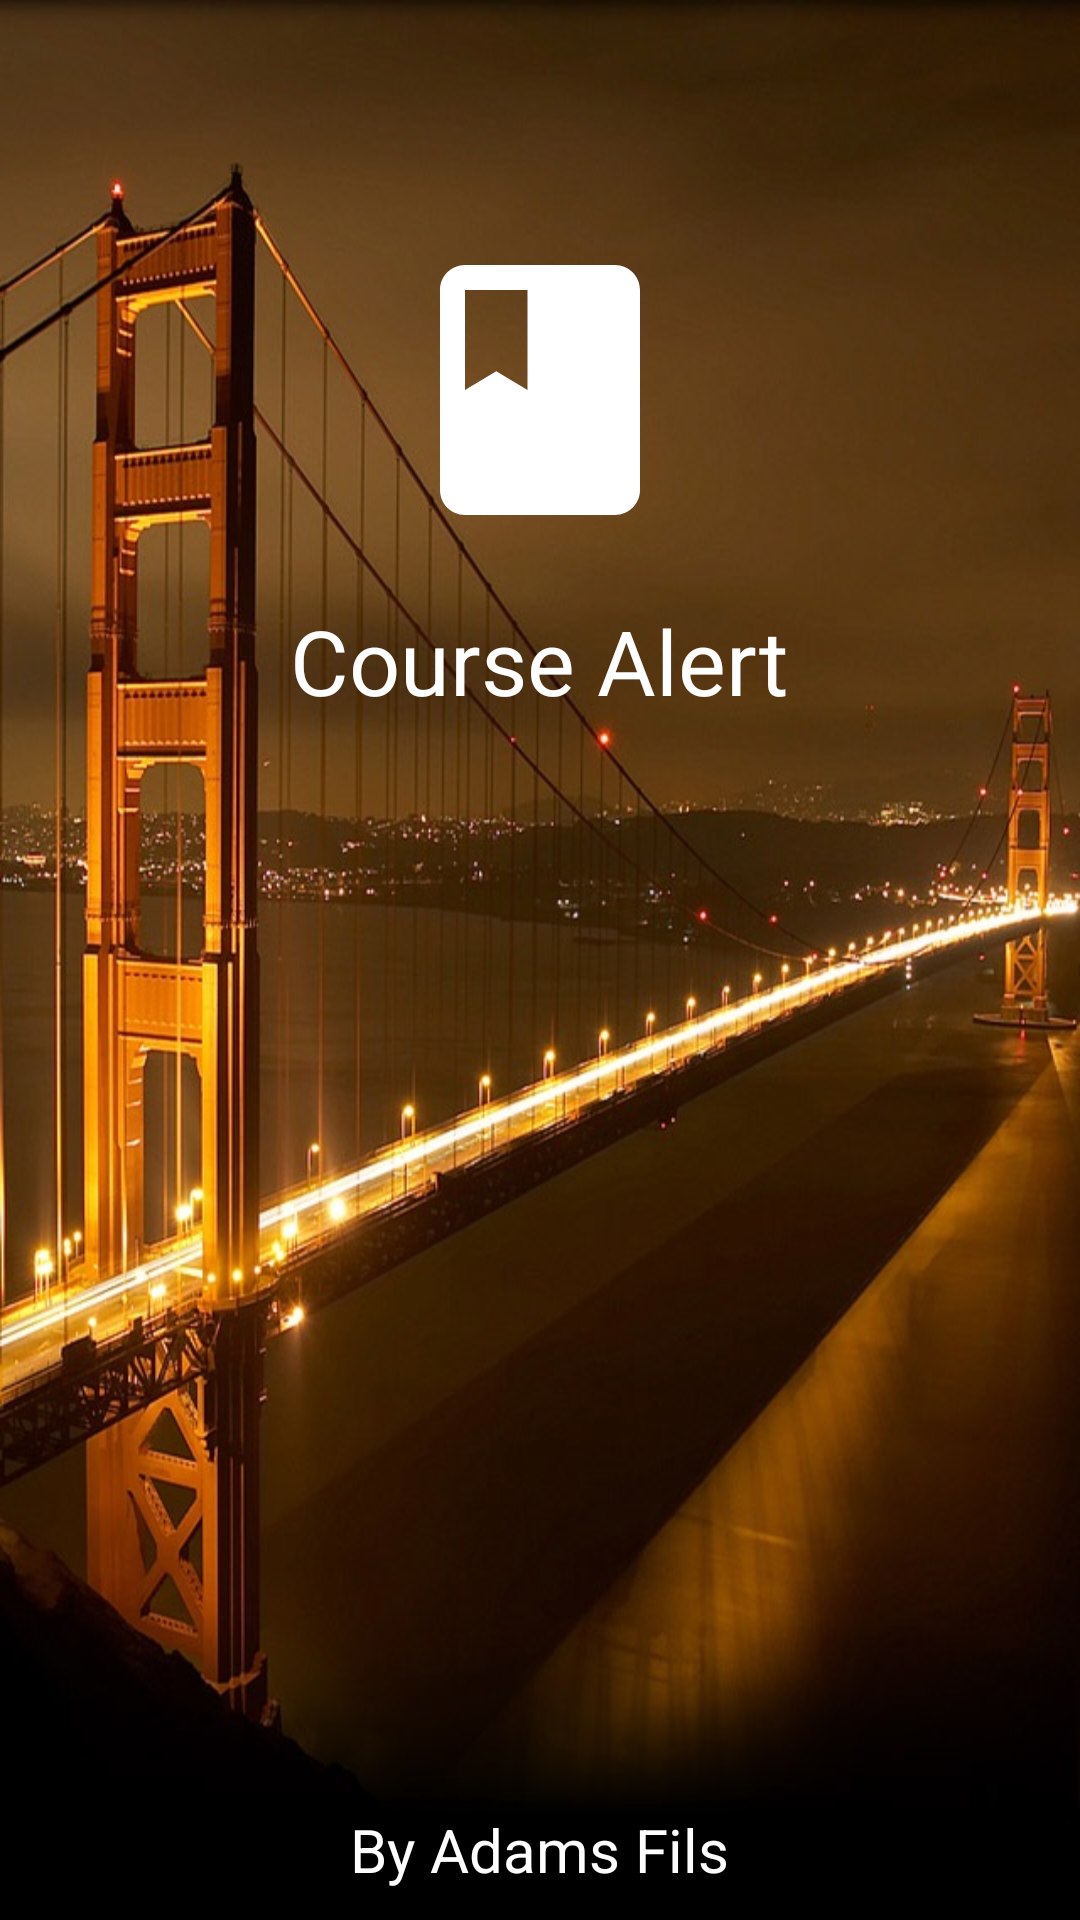

Where to tap for icons on this 1080*1920 app screen, as (x=x, y=y):
book: (x=515, y=397)
